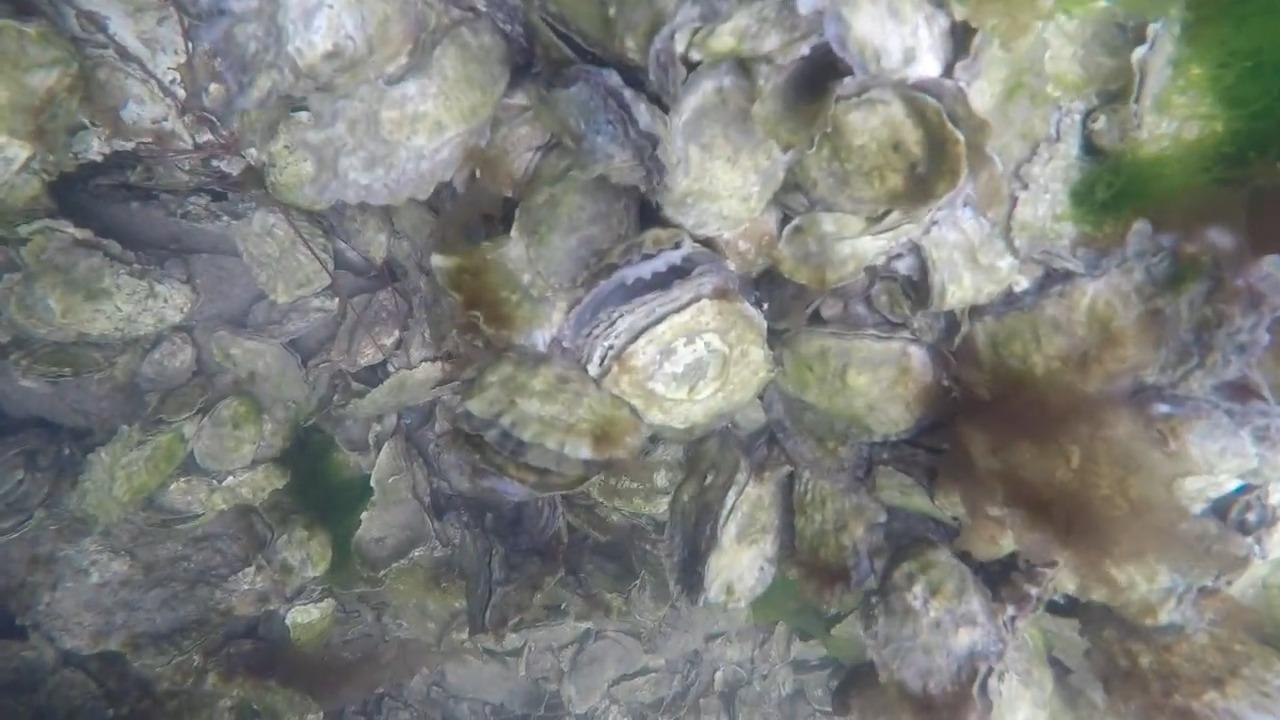Oyster: (249, 8, 512, 215), (550, 253, 782, 428), (564, 249, 772, 443), (21, 509, 260, 663), (958, 256, 1170, 403), (657, 58, 798, 246), (789, 81, 969, 227), (1064, 594, 1280, 713), (5, 223, 202, 353), (458, 343, 655, 472), (451, 345, 644, 470), (866, 544, 1009, 707), (769, 324, 955, 448), (63, 5, 199, 158), (509, 166, 646, 302), (998, 3, 1149, 123), (1067, 528, 1241, 632), (529, 65, 667, 195), (691, 450, 791, 614), (188, 326, 322, 446), (1005, 115, 1111, 266), (0, 15, 90, 190), (890, 201, 1020, 320), (1139, 391, 1277, 502), (67, 418, 195, 528), (0, 350, 157, 439), (784, 463, 884, 595), (432, 238, 549, 350), (819, 0, 961, 87), (451, 424, 609, 502), (672, 1, 828, 78), (226, 202, 337, 309), (526, 2, 676, 80), (334, 350, 469, 427), (769, 210, 890, 295), (746, 57, 846, 159), (983, 624, 1081, 720), (186, 454, 303, 526), (188, 390, 274, 478), (866, 463, 957, 534), (206, 667, 325, 720), (267, 517, 334, 594), (133, 328, 200, 396), (282, 595, 341, 646)
